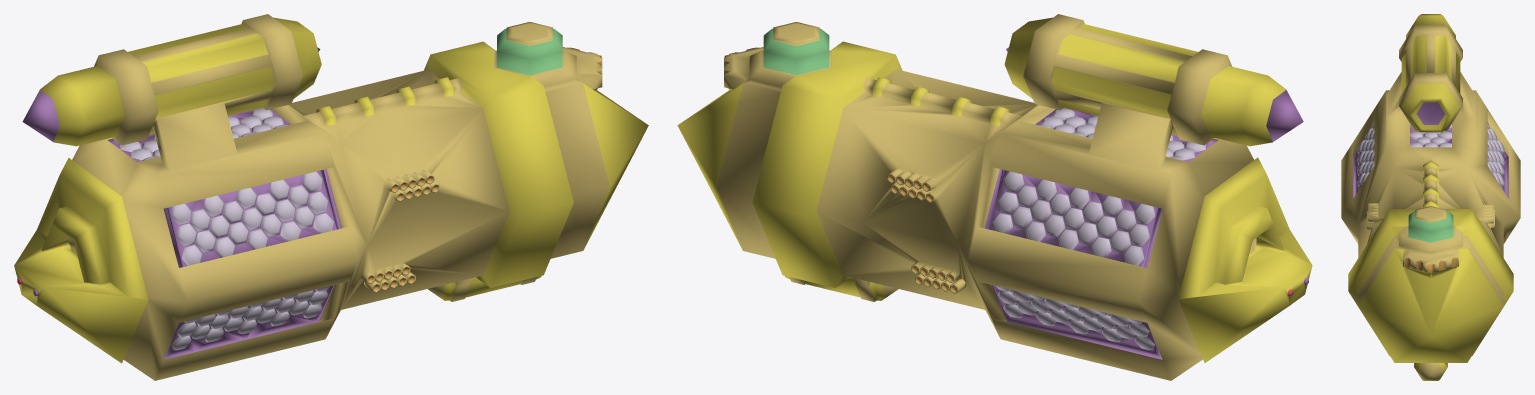
File: vra-shard.glb
The picture shows the model from 3 angles, left to right: view 1: azimuth 30°, elevation 25°; view 2: azimuth 150°, elevation 25°; view 3: azimuth 270°, elevation 25°; orthographic projection. The views are drawn at different scales.
Parts seen in each view (by area): view 1: Shard current hull - authored COLOR_0 regions; view 2: Shard current hull - authored COLOR_0 regions; view 3: Shard current hull - authored COLOR_0 regions.
Boxes of the visible parts, <box> form: Shard current hull - authored COLOR_0 regions: <box>14,14,648,380</box>; Shard current hull - authored COLOR_0 regions: <box>677,14,1312,380</box>; Shard current hull - authored COLOR_0 regions: <box>1341,14,1520,380</box>.
Bounding box in the file's own units: 5.04 × 2.43 × 1.83.
